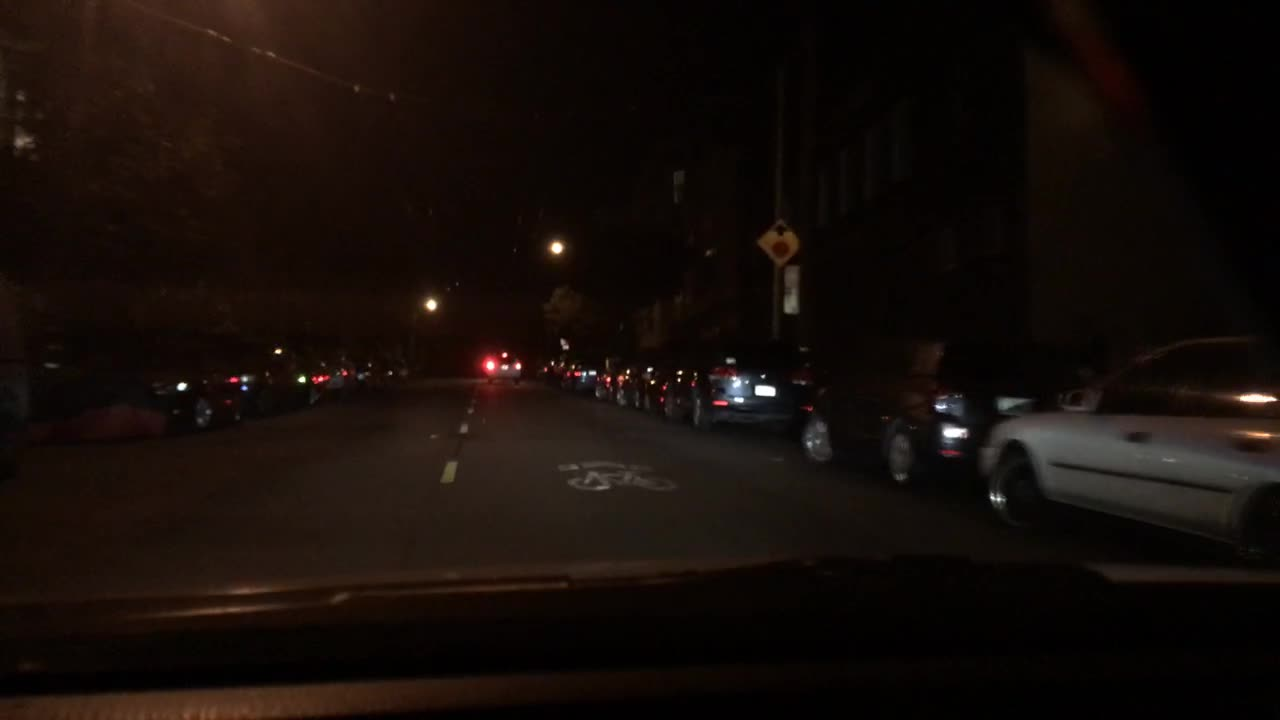car: (982, 330, 1278, 569), (805, 337, 1087, 485), (18, 330, 243, 432), (665, 341, 811, 436), (226, 335, 313, 417), (308, 337, 368, 396), (630, 349, 686, 411), (291, 340, 340, 402), (359, 339, 404, 394), (614, 358, 659, 408), (592, 354, 632, 402), (478, 347, 524, 387), (563, 353, 606, 392), (539, 361, 577, 386)
traffic sign: (756, 216, 802, 263), (781, 264, 801, 314)
